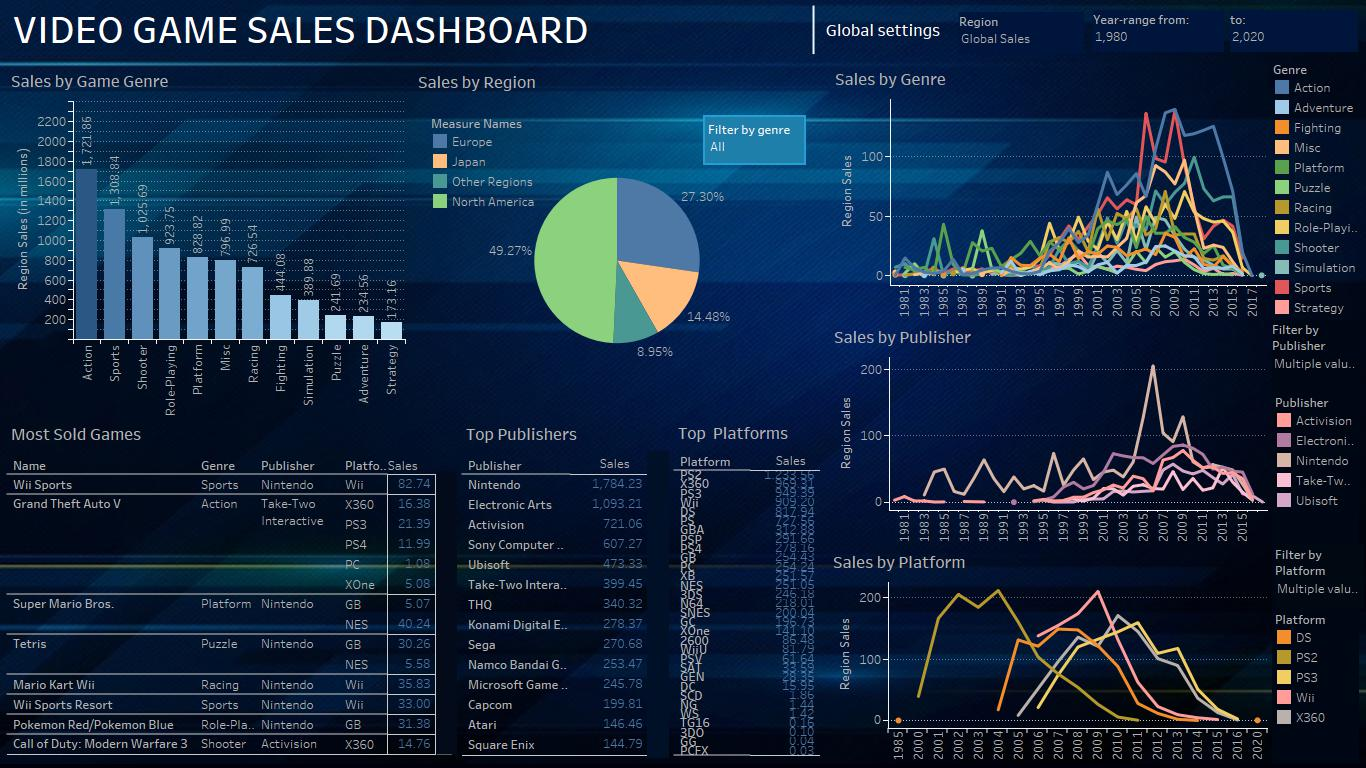

This screenshot's page, from the dashboard's own definition file:
{"tool":"tableau","page":{"name":"Dashboard 1","canvas":[1366,768],"ordinal":0},"visuals":[{"type":"parameter","param":"[Parameters].[Parameter 1]","box":[529,4,150,50]},{"type":"parameter","param":"[Parameters].[Parameter 3]","box":[807,5,126,67]},{"type":"parameter","param":"[Parameters].[Parameter 2]","box":[698,7,120,50]},{"type":"title","box":[8,8,1350,44]},{"type":"worksheet","title":"Sales-genre","mark":"Automatic","rows":["Calculation_330451681605750784"],"cols":["F5"],"box":[8,52,410,354]},{"type":"worksheet","title":"%sales-region","mark":"Pie","box":[418,52,411,354]},{"type":"worksheet","title":"sales-years-genre","mark":"Line","rows":["Calculation_330451681605750784"],"cols":["F4"],"box":[829,52,435,249]},{"type":"legend","title":"sales-years-genre","param":"[federated.0rc73sq1olvrj818etojb1lzlh97].[none:F5:nk]","box":[1264,52,94,233.5]},{"type":"legend","title":"%sales-region","param":"[federated.0rc73sq1olvrj818etojb1lzlh97].[:Measure Names]","box":[424,94,121,114]},{"type":"filter","title":"%sales-region","param":"[federated.0rc73sq1olvrj818etojb1lzlh97].[none:F5:nk]","box":[729,96,103,279]},{"type":"filter","title":"sales-years-publ","param":"[federated.0rc73sq1olvrj818etojb1lzlh97].[none:F6:nk]","box":[1264,285.5,94,223.2]},{"type":"legend","title":"sales-years-publ","param":"[federated.0rc73sq1olvrj818etojb1lzlh97].[none:F6:nk]","box":[1133,300,125,135]},{"type":"worksheet","title":"sales-years-publ","mark":"Line","rows":["Calculation_330451681605750784"],"cols":["F4"],"box":[829,301,435,225]},{"type":"worksheet","title":"games-sales","mark":"Automatic","rows":["F2","F5","F6","F3"],"box":[8,406,447,354]},{"type":"worksheet","title":"publish-sales","mark":"Automatic","rows":["F6"],"box":[455,406,201,354]},{"type":"worksheet","title":"plat-sales","mark":"Automatic","rows":["F3"],"box":[656,406,173,354]},{"type":"filter","title":"sales-years-plat","param":"[federated.0rc73sq1olvrj818etojb1lzlh97].[none:F3:nk]","box":[1264,508.6,94,251.4]},{"type":"worksheet","title":"sales-years-plat","mark":"Line","rows":["Calculation_330451681605750784"],"cols":["F4"],"box":[829,526,435,234]},{"type":"legend","title":"sales-years-plat","param":"[federated.0rc73sq1olvrj818etojb1lzlh97].[none:F3:nk]","box":[1199,550,65,131]}]}

Visuals, with their boxes in screenshot pixels (x1, y1, x2, y2), scaled from the page's 1366x768 canvas onto the 1366x768 screenshot:
parameter: box(529, 4, 679, 54)
parameter: box(807, 5, 933, 72)
parameter: box(698, 7, 818, 57)
title: box(8, 8, 1358, 52)
"Sales-genre" worksheet: box(8, 52, 418, 406)
"%sales-region" worksheet (Pie marks): box(418, 52, 829, 406)
"sales-years-genre" worksheet (Line marks): box(829, 52, 1264, 301)
"sales-years-genre" legend: box(1264, 52, 1358, 286)
"%sales-region" legend: box(424, 94, 545, 208)
"%sales-region" filter: box(729, 96, 832, 375)
"sales-years-publ" filter: box(1264, 286, 1358, 509)
"sales-years-publ" legend: box(1133, 300, 1258, 435)
"sales-years-publ" worksheet (Line marks): box(829, 301, 1264, 526)
"games-sales" worksheet: box(8, 406, 455, 760)
"publish-sales" worksheet: box(455, 406, 656, 760)
"plat-sales" worksheet: box(656, 406, 829, 760)
"sales-years-plat" filter: box(1264, 509, 1358, 760)
"sales-years-plat" worksheet (Line marks): box(829, 526, 1264, 760)
"sales-years-plat" legend: box(1199, 550, 1264, 681)
